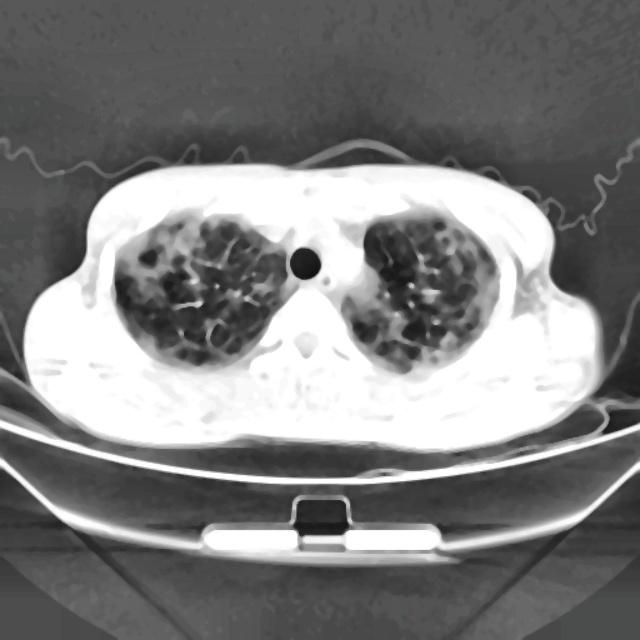covid: (23, 156, 604, 453)
